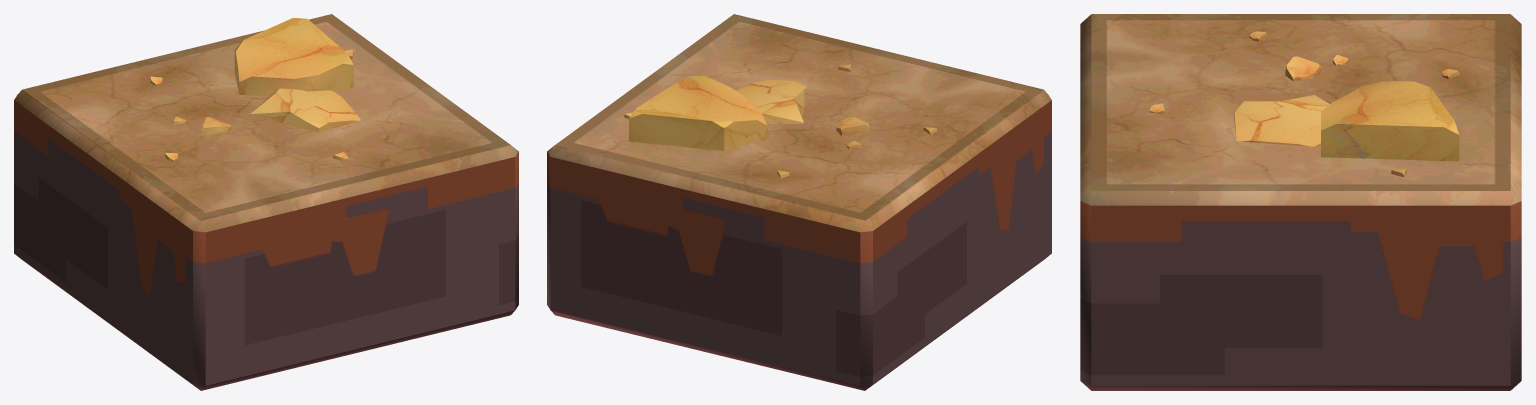
File: tiledesert003.glb
The picture shows the model from 3 angles, left to right: view 1: azimuth 30°, elevation 25°; view 2: azimuth 150°, elevation 25°; view 3: azimuth 270°, elevation 25°; orthographic projection. The views are drawn at different scales.
Parts seen in each view (by area): view 1: tiledesert003; view 2: tiledesert003; view 3: tiledesert003.
Part boxes in pixels (left/top/right/bottom): tiledesert003: left=14, top=14, right=518, bottom=390; tiledesert003: left=547, top=14, right=1051, bottom=390; tiledesert003: left=1080, top=14, right=1521, bottom=390.
Size of the model in its own units: 1 by 0.5845 by 1.
Materials: 2 (2 with a texture image).
